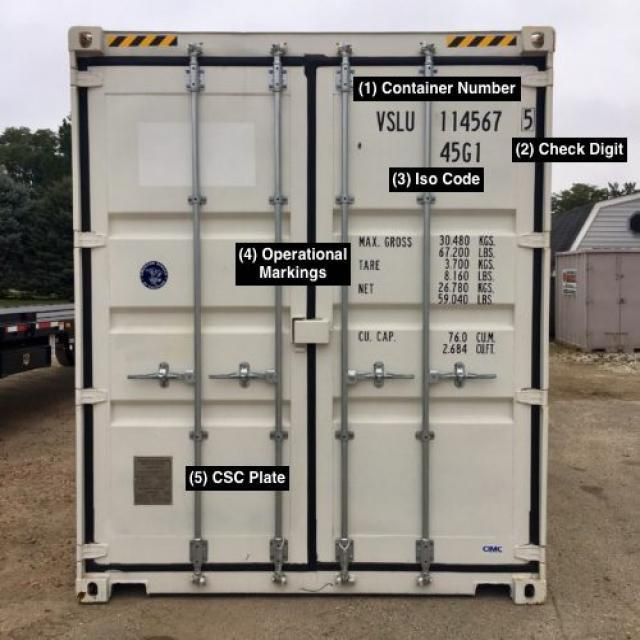ISO: (435, 142, 482, 166)
container_number: (376, 104, 532, 136)
